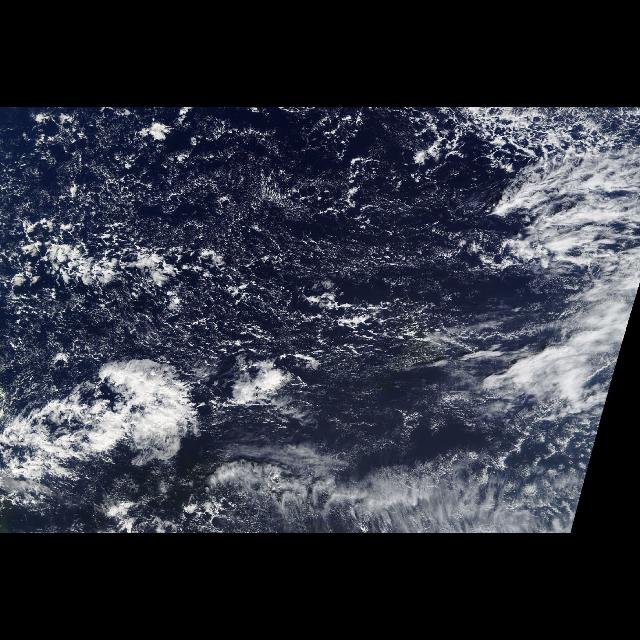Fish: (5, 359, 595, 527), (2, 230, 218, 298)
Gravel: (4, 118, 536, 372)
